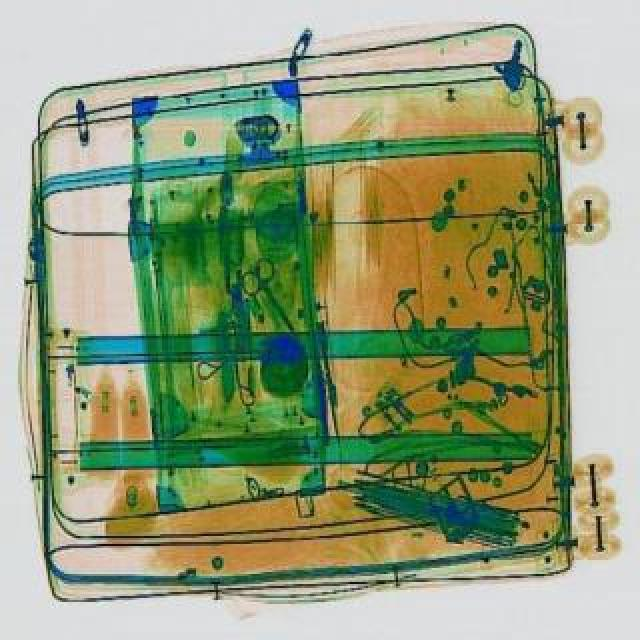pliers: (228, 250, 312, 346)
